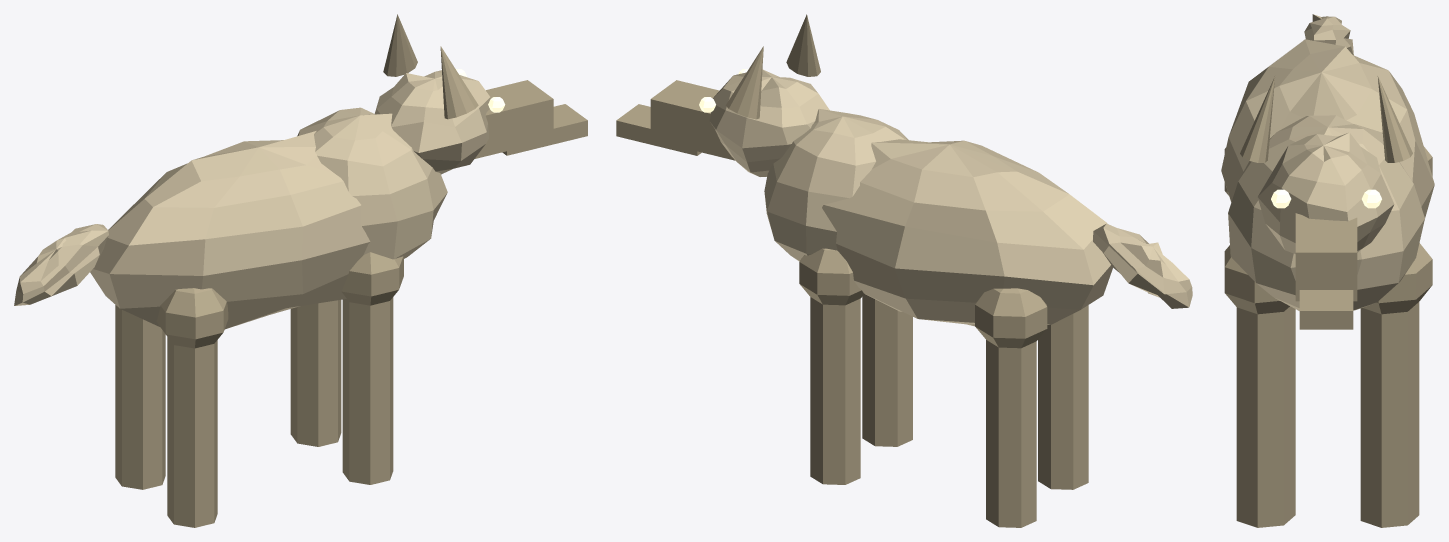
File: jackal.glb
3 renders of one model, left to right at view 1: azimuth 30°, elevation 25°; view 2: azimuth 150°, elevation 25°; view 3: azimuth 270°, elevation 25°, orthographic. The views are drawn at different scales.
Parts seen in each view (by area): view 1: body, chest, legFR, legBR, legBL, legFL, skull, tail0, snoutm, hip.003, hip.001, ear (+2 smaller); view 2: body, chest, legBL, legFL, legBR, legFR, skull, tail0, snoutm, hip.002, hip, ear.001 (+2 smaller); view 3: chest, body, legFL, legFR, skull, snoutm, jaw, hip, hip.001, ear, ear.001, tail0 (+2 smaller).
Boxes of the visible parts, x1,y1,x2,y2 form: body: (90, 131, 370, 329); chest: (297, 107, 447, 259); legFR: (342, 297, 393, 484); legBR: (167, 337, 217, 527); legBL: (115, 305, 165, 489); legFL: (290, 300, 341, 446); skull: (374, 70, 490, 174); tail0: (14, 224, 108, 305); snoutm: (475, 80, 553, 158); hip.003: (156, 288, 228, 348); hip.001: (341, 252, 403, 305); ear: (440, 46, 478, 119); body: (822, 139, 1112, 326); chest: (764, 109, 908, 261); legBL: (986, 340, 1036, 527); legFL: (810, 297, 860, 484); legBR: (1038, 305, 1088, 489); legFR: (862, 294, 912, 446); skull: (709, 69, 829, 176); tail0: (1093, 223, 1192, 308); snoutm: (650, 80, 734, 160); hip.002: (975, 288, 1047, 348); hip: (799, 248, 864, 305); ear.001: (725, 46, 763, 119); chest: (1228, 115, 1424, 310); body: (1221, 39, 1434, 217); legFL: (1360, 302, 1419, 527); legFR: (1236, 306, 1295, 527); skull: (1257, 132, 1394, 253); snoutm: (1295, 213, 1357, 301); jaw: (1299, 290, 1353, 329); hip: (1362, 243, 1432, 314); hip.001: (1224, 245, 1289, 314); ear: (1240, 76, 1275, 162); ear.001: (1377, 76, 1412, 162); tail0: (1304, 14, 1353, 55).
Size of the model in its own units: 1.85 by 1.28 by 0.5123.
